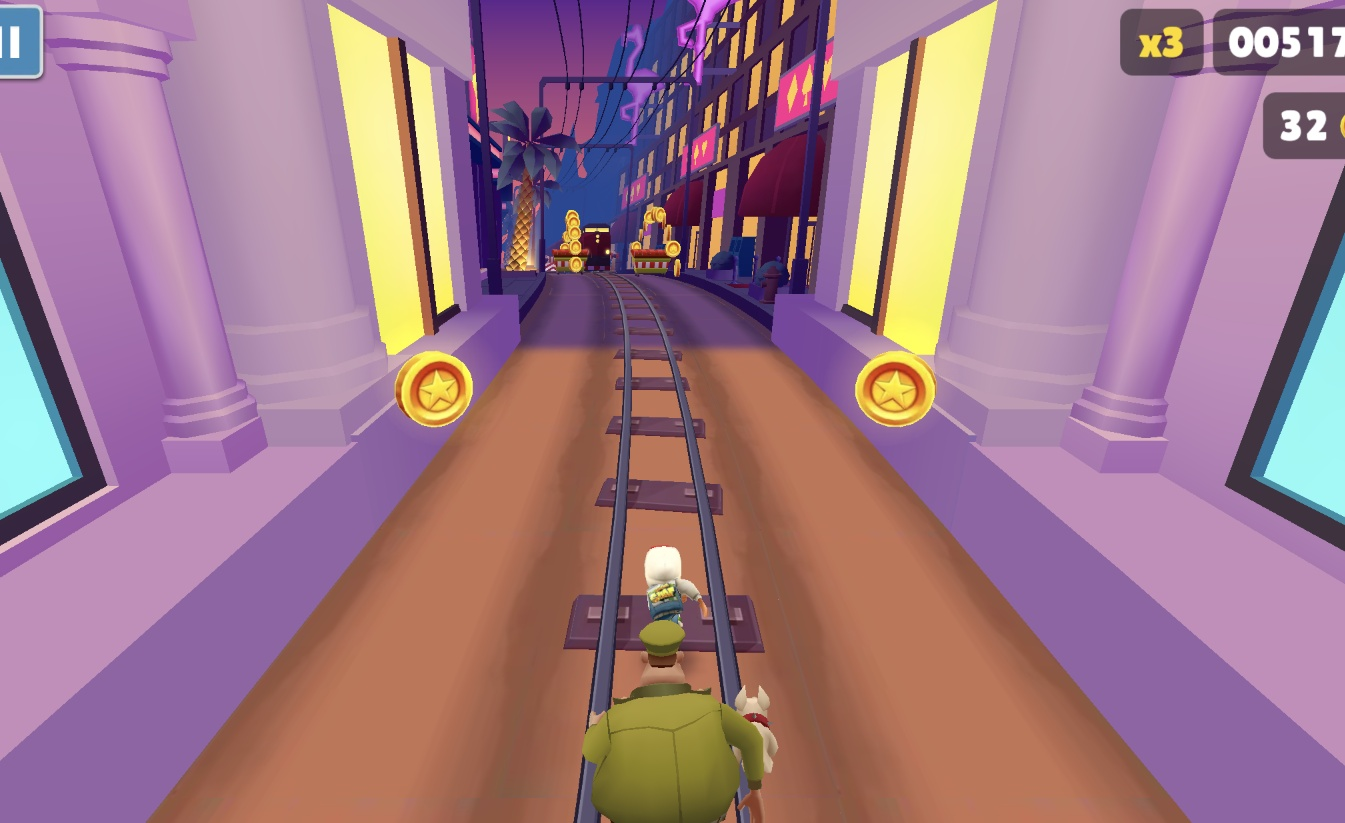ground_barrier: (626, 247, 676, 278), (552, 250, 578, 275), (610, 252, 623, 272), (544, 255, 557, 272)
train: (581, 228, 617, 272)
